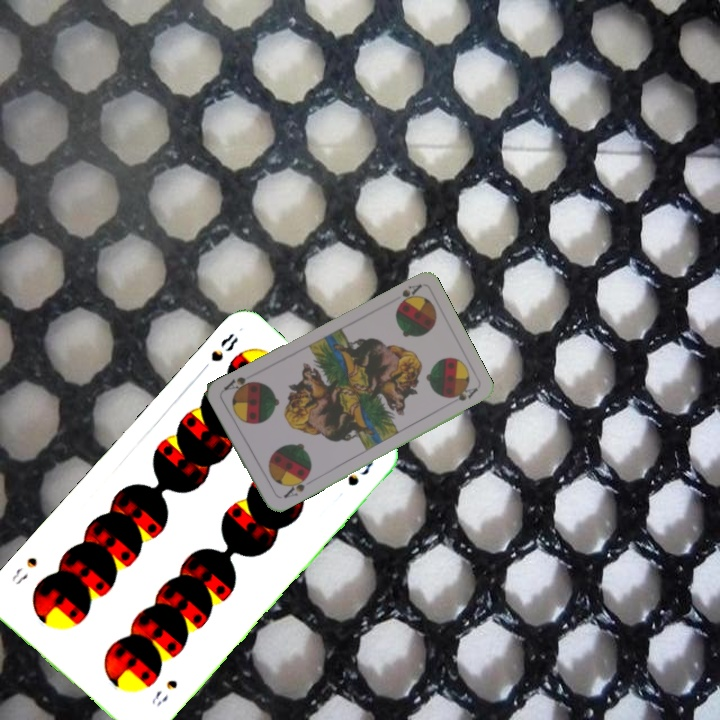S8: (196, 329, 241, 376), (147, 675, 181, 710)
SA: (279, 471, 311, 501), (393, 280, 424, 309)
